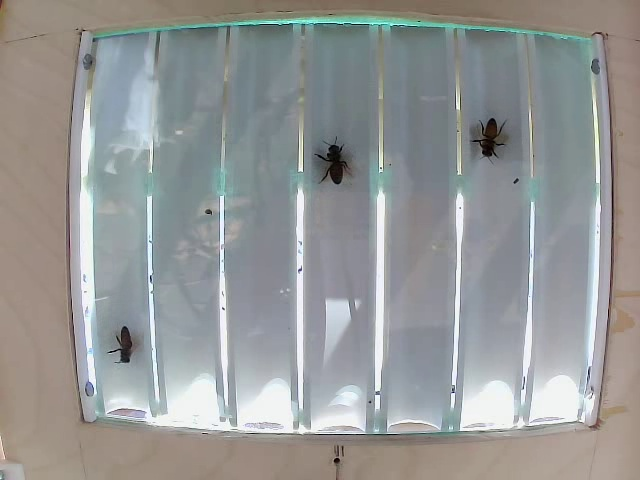bee: (309, 135, 364, 192), (464, 103, 512, 165), (113, 312, 154, 356)
